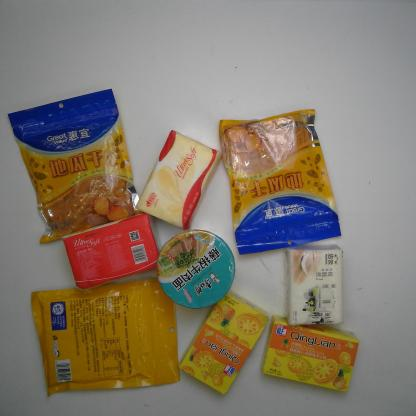Dessert: (178, 290, 272, 397), (260, 312, 362, 394)
Dried Fruit: (4, 87, 140, 246), (27, 275, 183, 399), (218, 107, 344, 256)
Instant Noodles: (154, 228, 236, 311)
Tissue: (133, 127, 224, 232), (60, 211, 161, 290), (282, 242, 346, 328)
